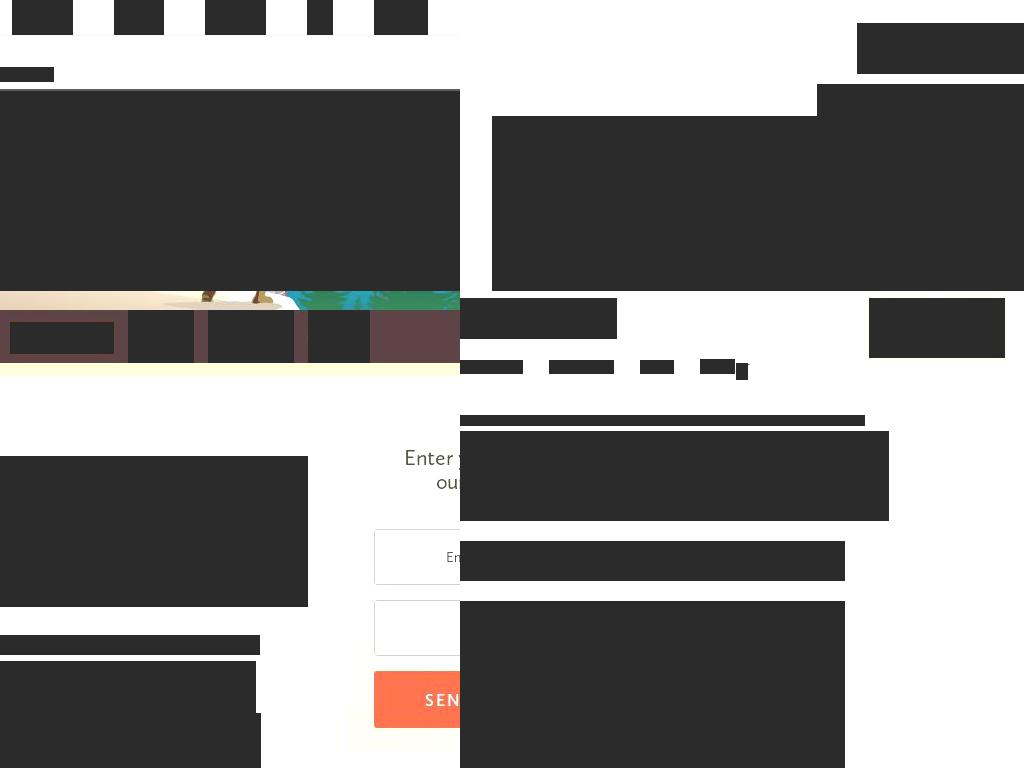button: (0, 91, 460, 291), (460, 601, 845, 768), (857, 23, 1024, 74), (869, 298, 1005, 358), (208, 310, 294, 363), (128, 310, 194, 363), (10, 322, 114, 354), (308, 310, 370, 363), (857, 40, 1024, 56), (12, 0, 73, 35), (205, 0, 266, 35), (374, 0, 428, 35), (114, 0, 164, 35), (307, 0, 333, 35)
field: (373, 671, 460, 728), (373, 529, 460, 585), (373, 600, 460, 656)
heading: (0, 456, 308, 572), (460, 298, 617, 339), (30, 67, 54, 82)
iframe: (460, 431, 889, 521)
image: (492, 116, 1024, 291), (0, 107, 460, 291), (460, 601, 845, 768), (557, 191, 705, 275), (891, 191, 1024, 275), (725, 191, 873, 216), (725, 221, 873, 246), (725, 251, 873, 276), (736, 363, 748, 380)
link: (549, 360, 614, 374), (460, 360, 523, 374), (640, 360, 674, 374)
text: (0, 661, 256, 733), (460, 541, 845, 581), (0, 713, 261, 768), (0, 572, 308, 607), (817, 84, 1024, 126), (460, 415, 865, 426), (105, 635, 260, 655), (0, 635, 106, 655), (210, 328, 292, 347), (403, 444, 460, 471), (156, 713, 232, 733), (12, 7, 73, 27), (205, 7, 266, 27), (30, 330, 94, 347), (374, 7, 428, 27), (114, 7, 164, 27), (130, 328, 178, 347), (310, 328, 355, 347), (435, 468, 460, 495), (700, 359, 735, 374), (307, 7, 333, 27)
